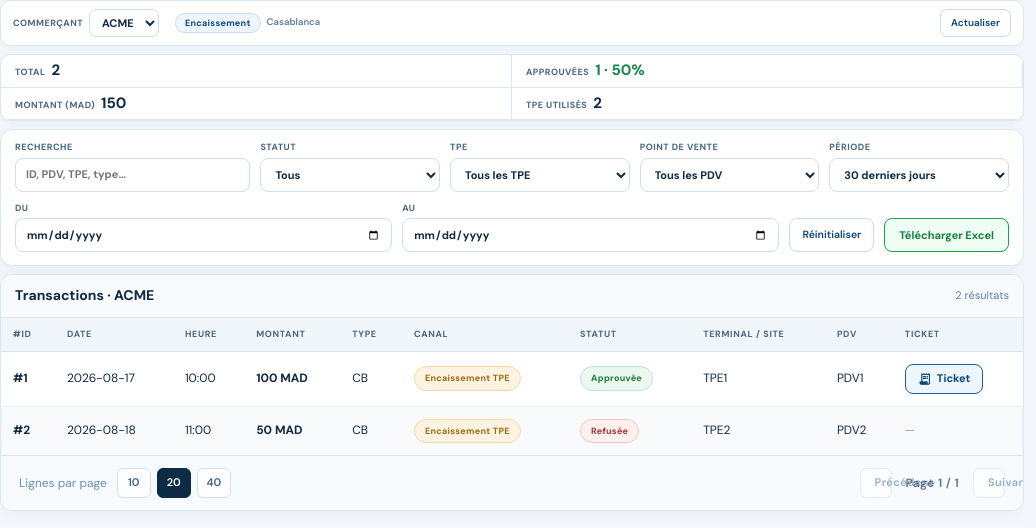
Test case: SupervisorTransactionsPage › Réinitialiser efface aussi la plage de dates
Expected: the text "#1" is shown, x1=13 y1=370 x2=28 y2=386
Type "2026-08-18" into the date field labelled "Du".
click(204, 235); type("2026-08-18")  # box x1=15 y1=218 x2=392 y2=252
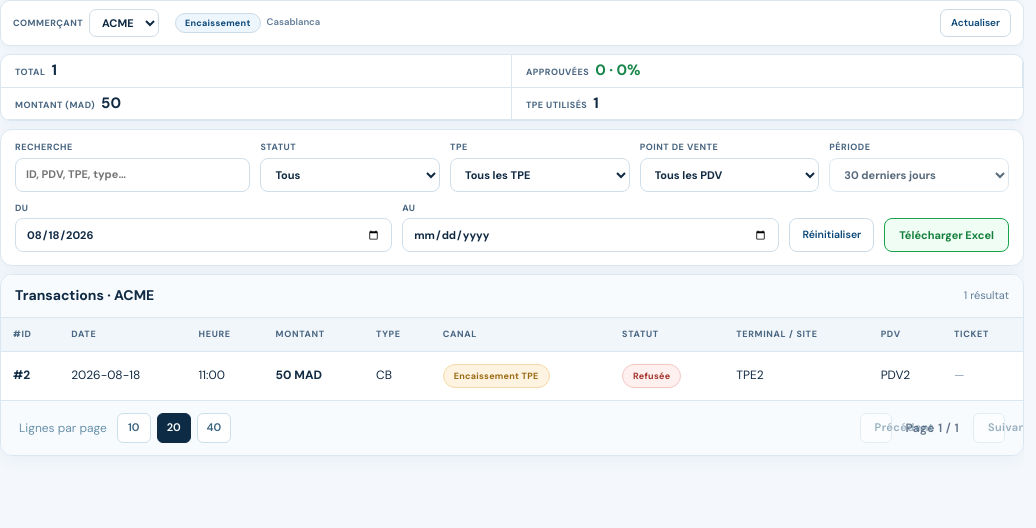
Expected: the text "#1" is gone
Click the button "Réinitialiser".
click(832, 235)  # box x1=789 y1=218 x2=874 y2=252
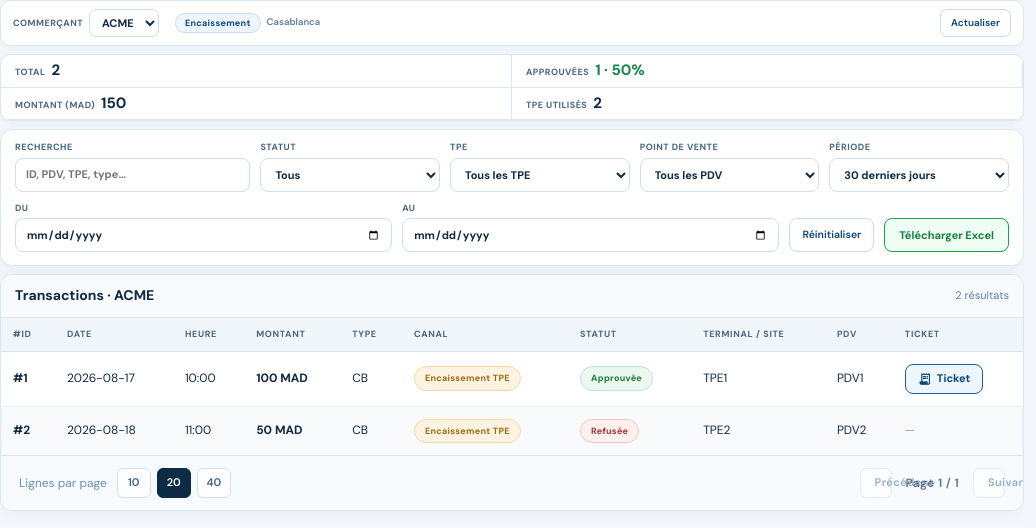
Expected: the text "#1" is shown, x1=13 y1=370 x2=28 y2=386
Expected: the date field labelled "Du" is empty, x1=15 y1=218 x2=392 y2=252
